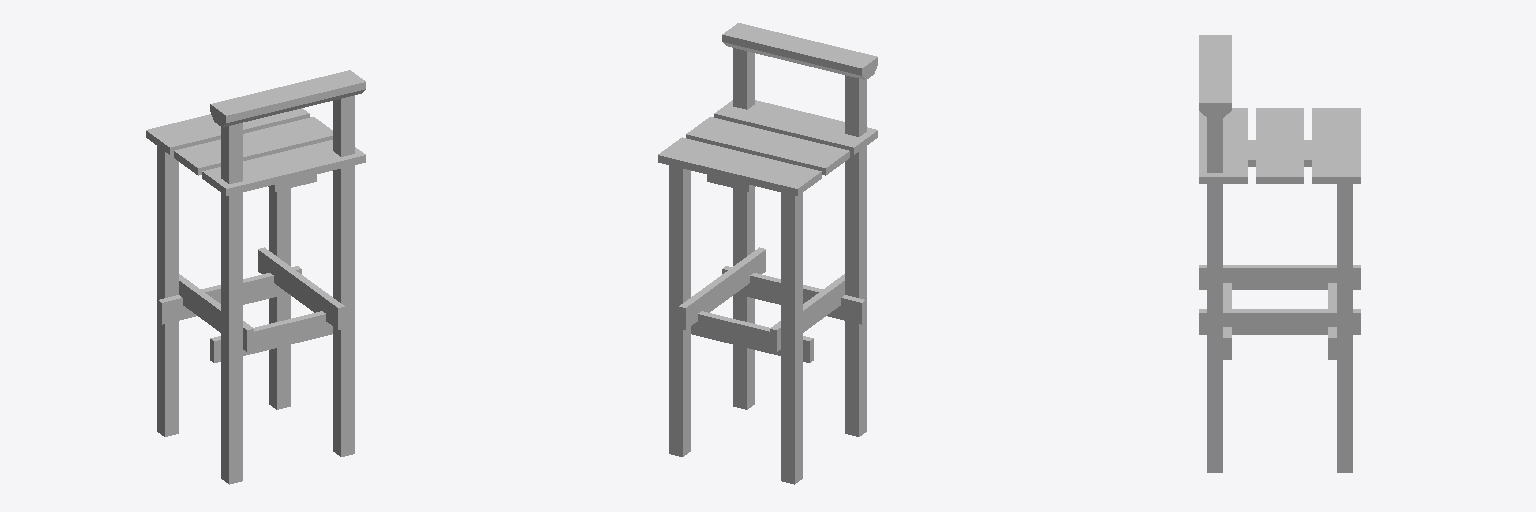
Rendered from scaffold_small_high_railing.obj.
3 views of the same model, side by side, from view 1: azimuth 30°, elevation 25°; view 2: azimuth 150°, elevation 25°; view 3: azimuth 270°, elevation 25° (orthographic).
Visible parts, largest first — view 1: scaffold_small_high_railing_Cube.2461; view 2: scaffold_small_high_railing_Cube.2461; view 3: scaffold_small_high_railing_Cube.2461.
Boxes of the visible parts, box(x1,y1,x2,y2) form: scaffold_small_high_railing_Cube.2461: box(146, 70, 365, 484); scaffold_small_high_railing_Cube.2461: box(658, 23, 877, 484); scaffold_small_high_railing_Cube.2461: box(1199, 35, 1360, 472).
Bounding box in the file's own units: 2 × 5.1 × 2.